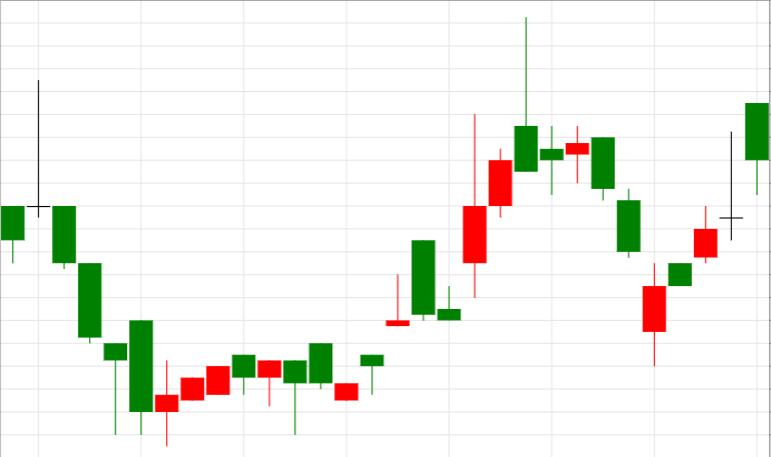shooting_star_fall: (334, 16, 537, 400)
